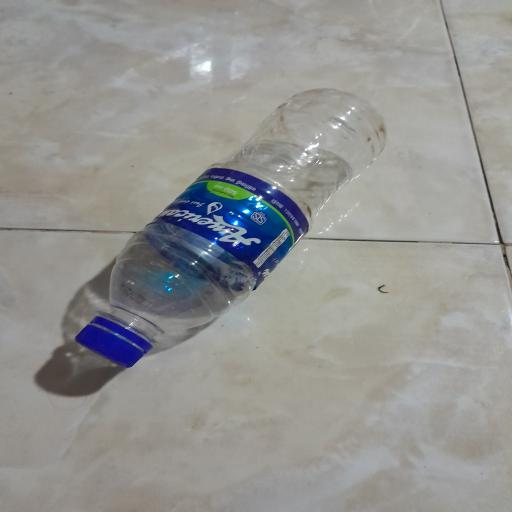waste: (52, 80, 406, 379)
